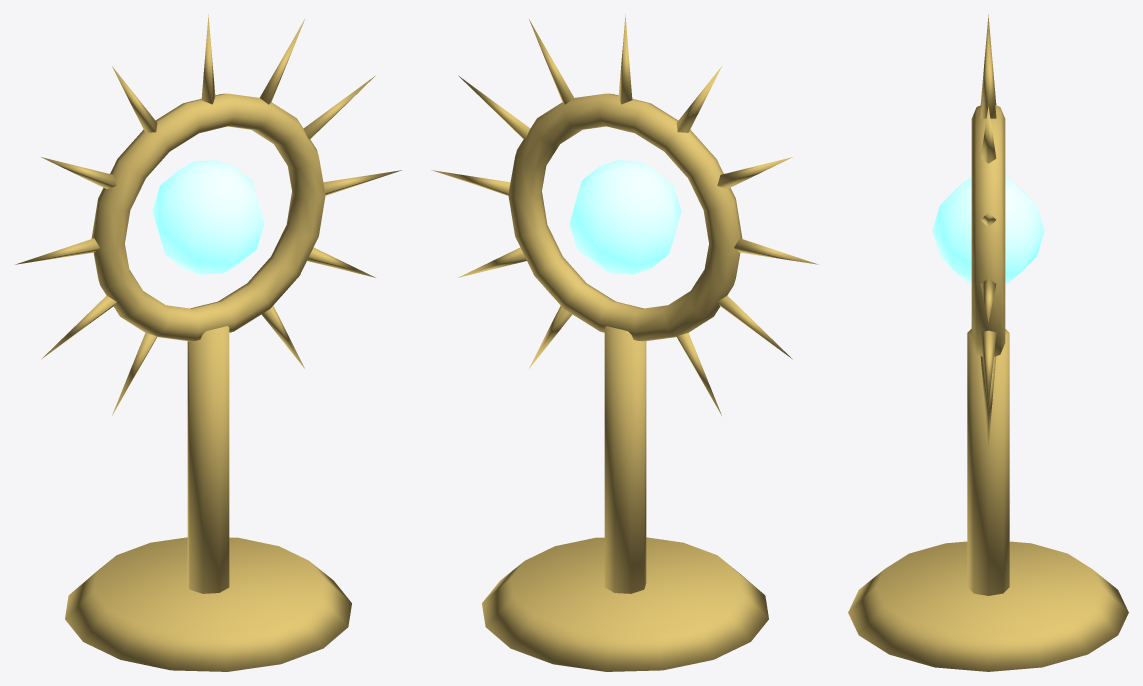
Rendered from reliquary_monstrance.glb.
3 renders of one model, left to right at view 1: azimuth 30°, elevation 25°; view 2: azimuth 150°, elevation 25°; view 3: azimuth 270°, elevation 25°, orthographic. The views are drawn at different scales.
Visible parts, largest first — view 1: GD_reliquary_monstrance__m0, GD_reliquary_monstrance__m1; view 2: GD_reliquary_monstrance__m0, GD_reliquary_monstrance__m1; view 3: GD_reliquary_monstrance__m0, GD_reliquary_monstrance__m1.
Boxes of the visible parts, x1,y1,x2,y2 form: GD_reliquary_monstrance__m0: (15,14,402,671); GD_reliquary_monstrance__m1: (152,160,264,274); GD_reliquary_monstrance__m0: (431,14,818,671); GD_reliquary_monstrance__m1: (569,160,681,274); GD_reliquary_monstrance__m0: (848,14,1128,671); GD_reliquary_monstrance__m1: (932,178,1044,283).
Size of the model in its own units: 0.31 by 0.455 by 0.2.
